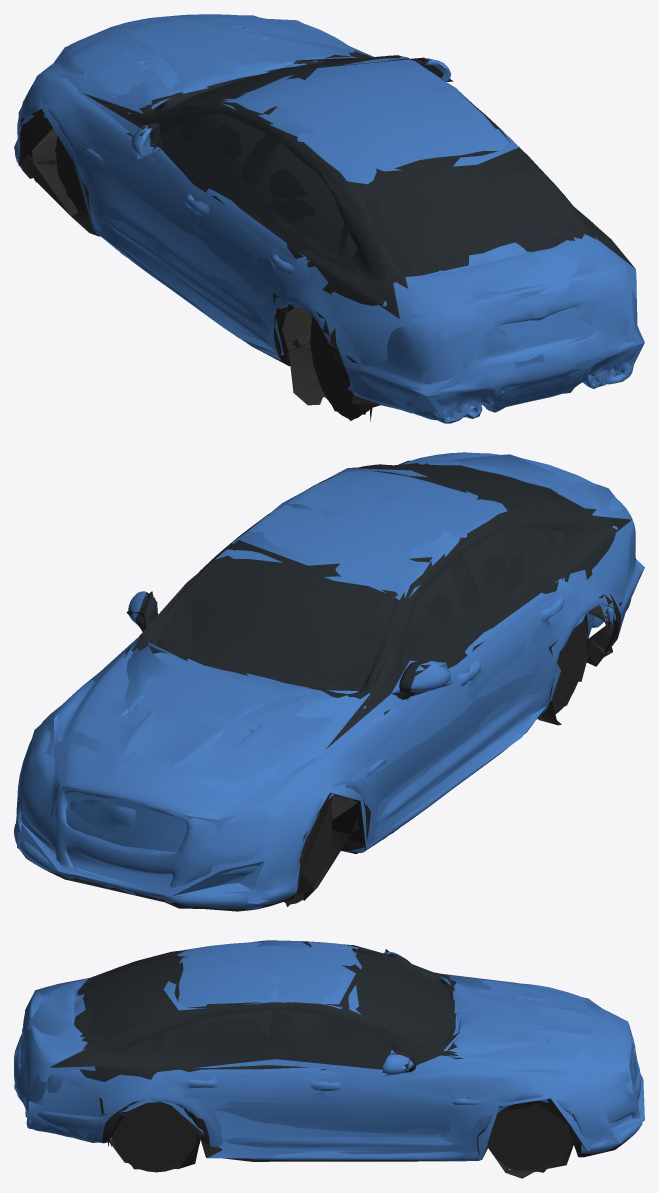
File: jaguar-xj.glb
The picture shows the model from 3 angles, top to bottom: view 1: azimuth 30°, elevation 25°; view 2: azimuth 150°, elevation 25°; view 3: azimuth 270°, elevation 25°; orthographic projection. The views are drawn at different scales.
Parts seen in each view (by area): view 1: body, far; view 2: body, far; view 3: body, far.
Boxes of the visible parts, box(x1,y1,x2,y2) form: body: box(15, 14, 638, 423); far: box(14, 15, 644, 421); body: box(14, 452, 640, 911); far: box(16, 454, 644, 906); body: box(14, 941, 642, 1178); far: box(14, 940, 644, 1172).
Size of the model in its own units: 2.25 by 1.58 by 5.28.
